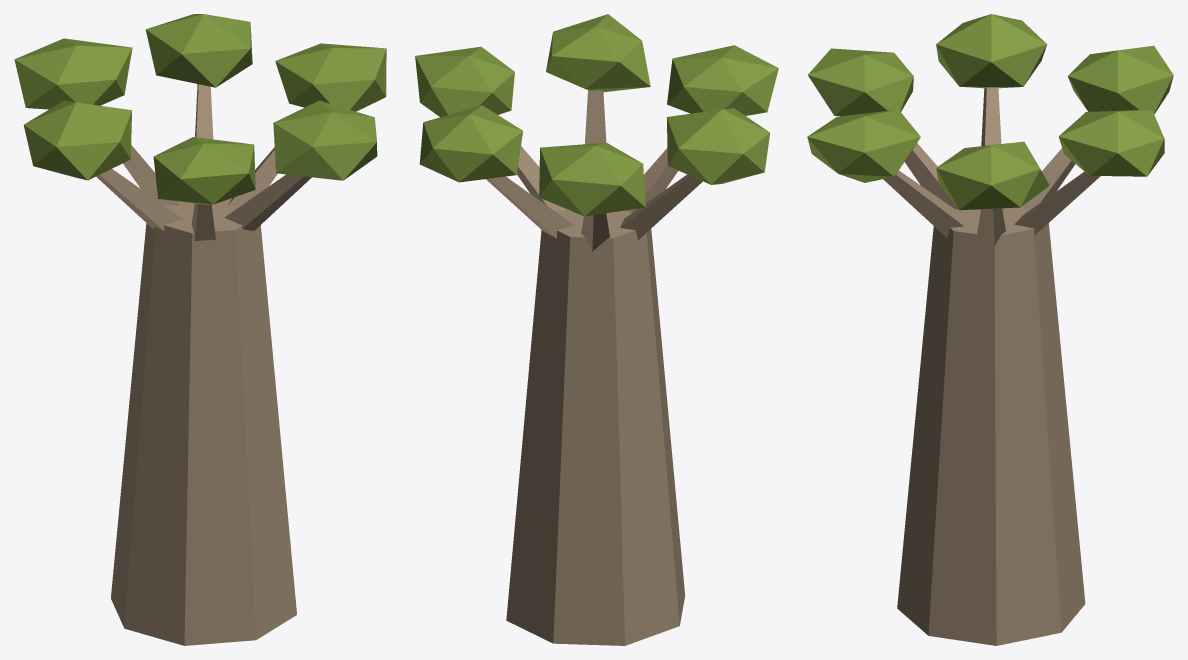
The model's file is baobab.glb.
3 renders of one model, left to right at view 1: azimuth 30°, elevation 25°; view 2: azimuth 150°, elevation 25°; view 3: azimuth 270°, elevation 25°, orthographic.
Visible parts, largest first — view 1: baobab; view 2: baobab; view 3: baobab.
Part boxes in pixels (x1=…): baobab: x1=14, y1=14, x2=386, y2=645; baobab: x1=415, y1=14, x2=778, y2=645; baobab: x1=807, y1=14, x2=1173, y2=645.
Size of the model in its own units: 8.58 by 12.41 by 7.78.
Materials: 1 (1 with a texture image).
